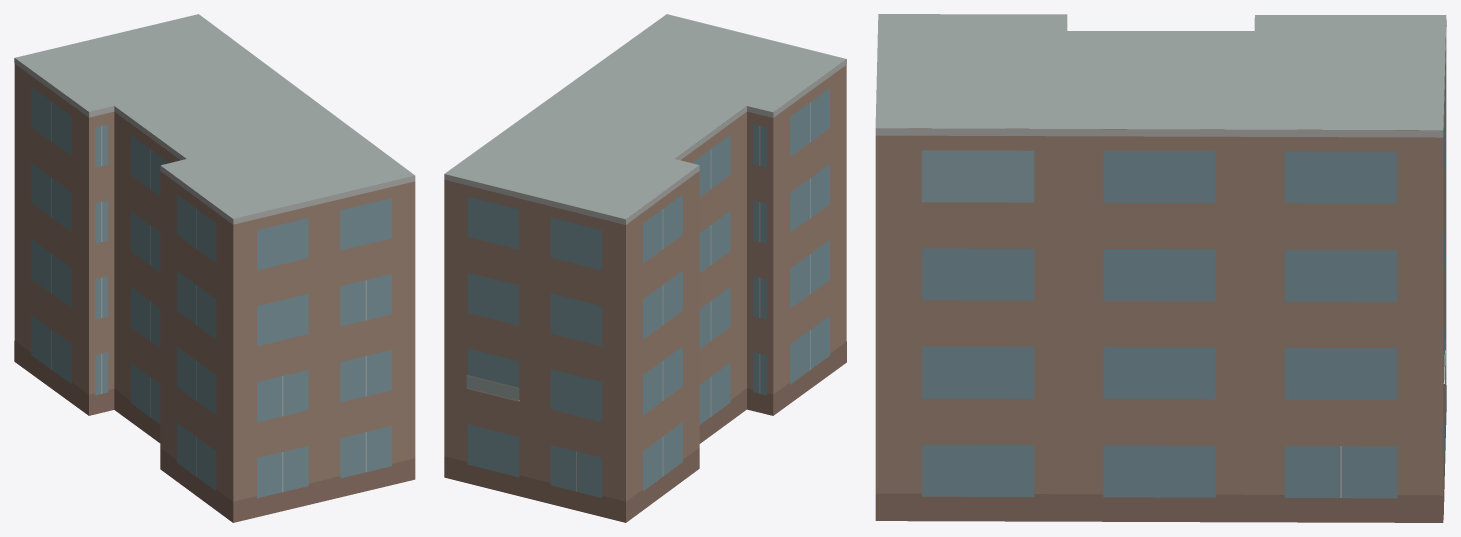
Rendered from survey-upis-32912024.glb.
The picture shows the model from 3 angles, left to right: view 1: azimuth 30°, elevation 25°; view 2: azimuth 150°, elevation 25°; view 3: azimuth 270°, elevation 25°; orthographic projection. The views are drawn at different scales.
Parts seen in each view (by area): view 1: survey-upis-32912024.tmp; view 2: survey-upis-32912024.tmp; view 3: survey-upis-32912024.tmp.
Part boxes in pixels (x1,y1,x2,y2): survey-upis-32912024.tmp: (14, 14, 415, 522); survey-upis-32912024.tmp: (444, 14, 846, 522); survey-upis-32912024.tmp: (875, 14, 1446, 522).
Size of the model in its own units: 8.32 by 13.1 by 17.27.
